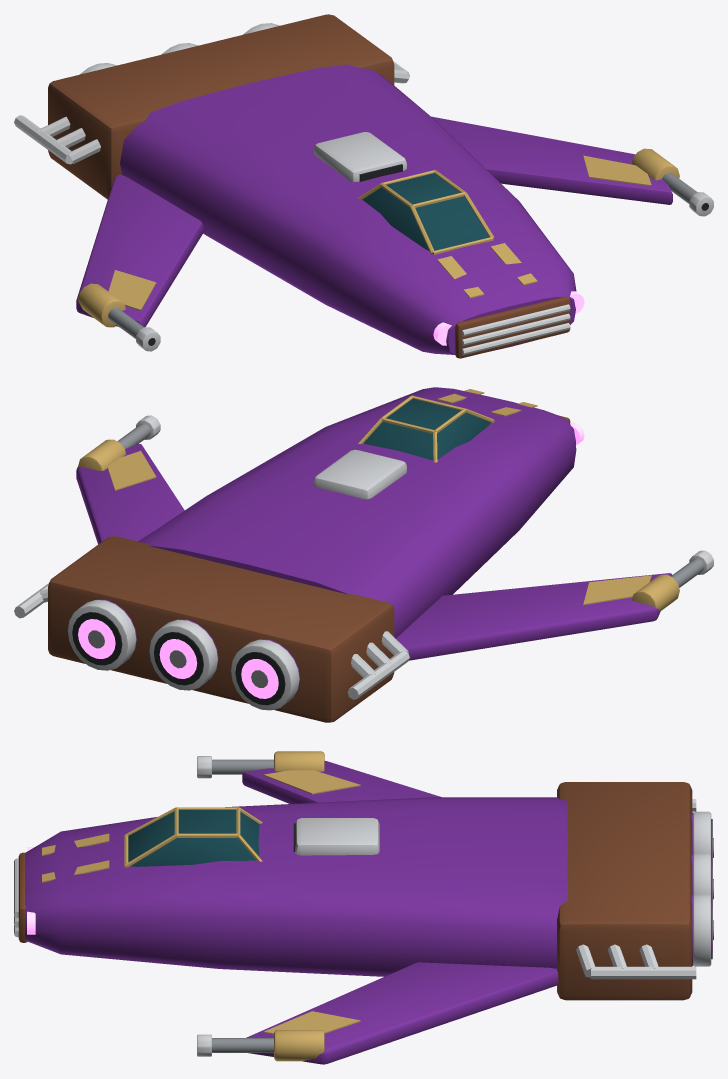
Rendered from raptor.glb.
3 renders of one model, top to bottom at view 1: azimuth 30°, elevation 25°; view 2: azimuth 150°, elevation 25°; view 3: azimuth 270°, elevation 25°, orthographic. The views are drawn at different scales.
Parts seen in each view (by area): view 1: raptor; view 2: raptor; view 3: raptor.
Boxes of the visible parts, x1,y1,x2,y2 form: raptor: [14, 14, 713, 358]; raptor: [14, 387, 713, 722]; raptor: [14, 751, 713, 1064].
Bounding box in the file's own units: 32.7 × 6.09 × 33.15.
